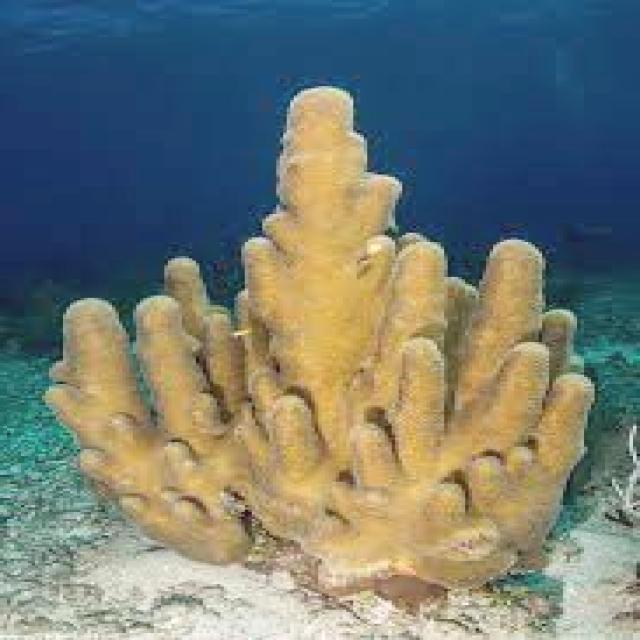Coral: (40, 84, 598, 600)
